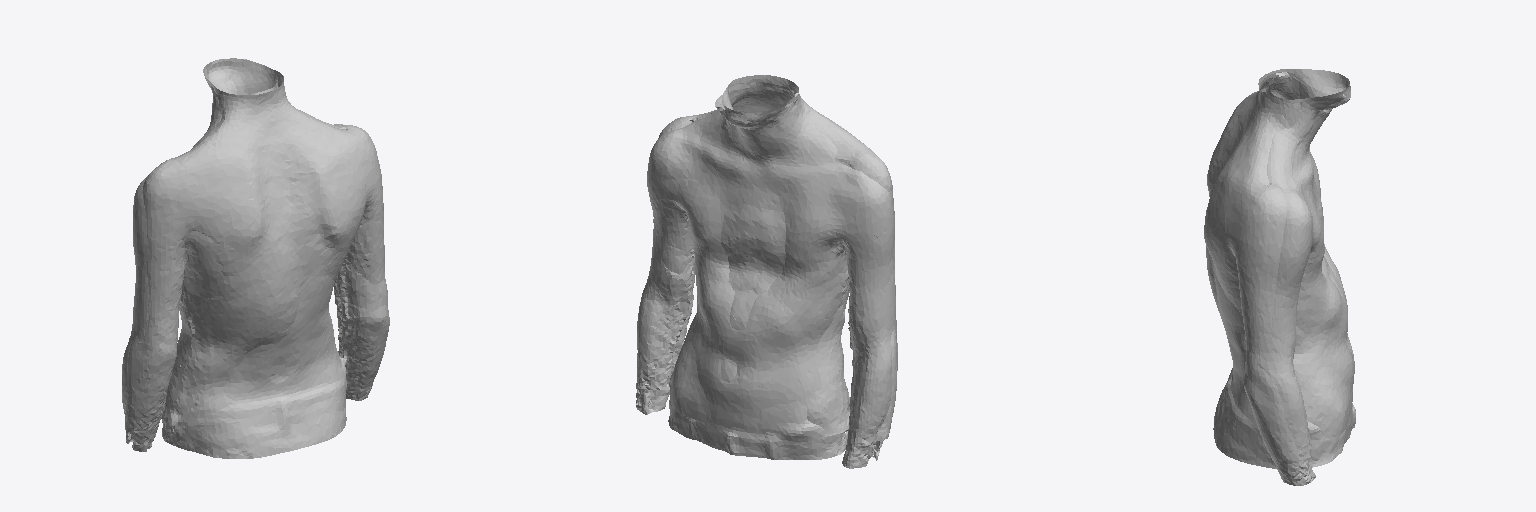
The model's file is BeforeFixedOBJ.obj.
3 renders of one model, left to right at view 1: azimuth 30°, elevation 25°; view 2: azimuth 150°, elevation 25°; view 3: azimuth 270°, elevation 25°, orthographic.
Visible parts, largest first — view 1: ModifiedAfter_pt1_excavatum_post_op, ModifiedBefore_pt1_before_-_excavatum_; view 2: ModifiedBefore_pt1_before_-_excavatum_, ModifiedAfter_pt1_excavatum_post_op; view 3: ModifiedBefore_pt1_before_-_excavatum_, ModifiedAfter_pt1_excavatum_post_op.
Boxes of the visible parts, x1,y1,x2,y2 form: ModifiedAfter_pt1_excavatum_post_op: [125, 58, 384, 433]; ModifiedBefore_pt1_before_-_excavatum_: [122, 59, 389, 458]; ModifiedBefore_pt1_before_-_excavatum_: [636, 82, 895, 468]; ModifiedAfter_pt1_excavatum_post_op: [637, 75, 897, 440]; ModifiedBefore_pt1_before_-_excavatum_: [1213, 72, 1355, 485]; ModifiedAfter_pt1_excavatum_post_op: [1204, 69, 1352, 461].
Bounding box in the file's own units: 0.4953 × 0.6364 × 0.2561.